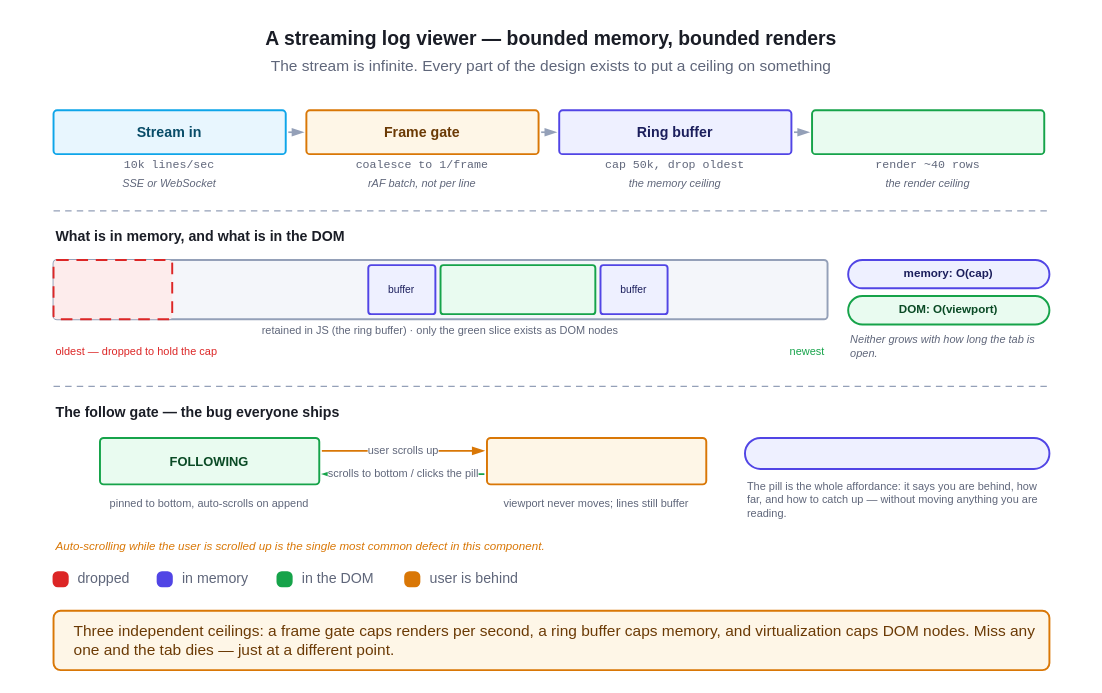
Some shapes in this 1102 by 693 pixel diagram are drawn without their labels. Each missing label, with the centre of its shape:
"evicted" goes at pixel 112 289.
"FROZEN" goes at pixel 596 460.
"mounted" goes at pixel 517 289.
"Window" goes at pixel 928 132.
"↓ 412 new lines" goes at pixel 896 452.
